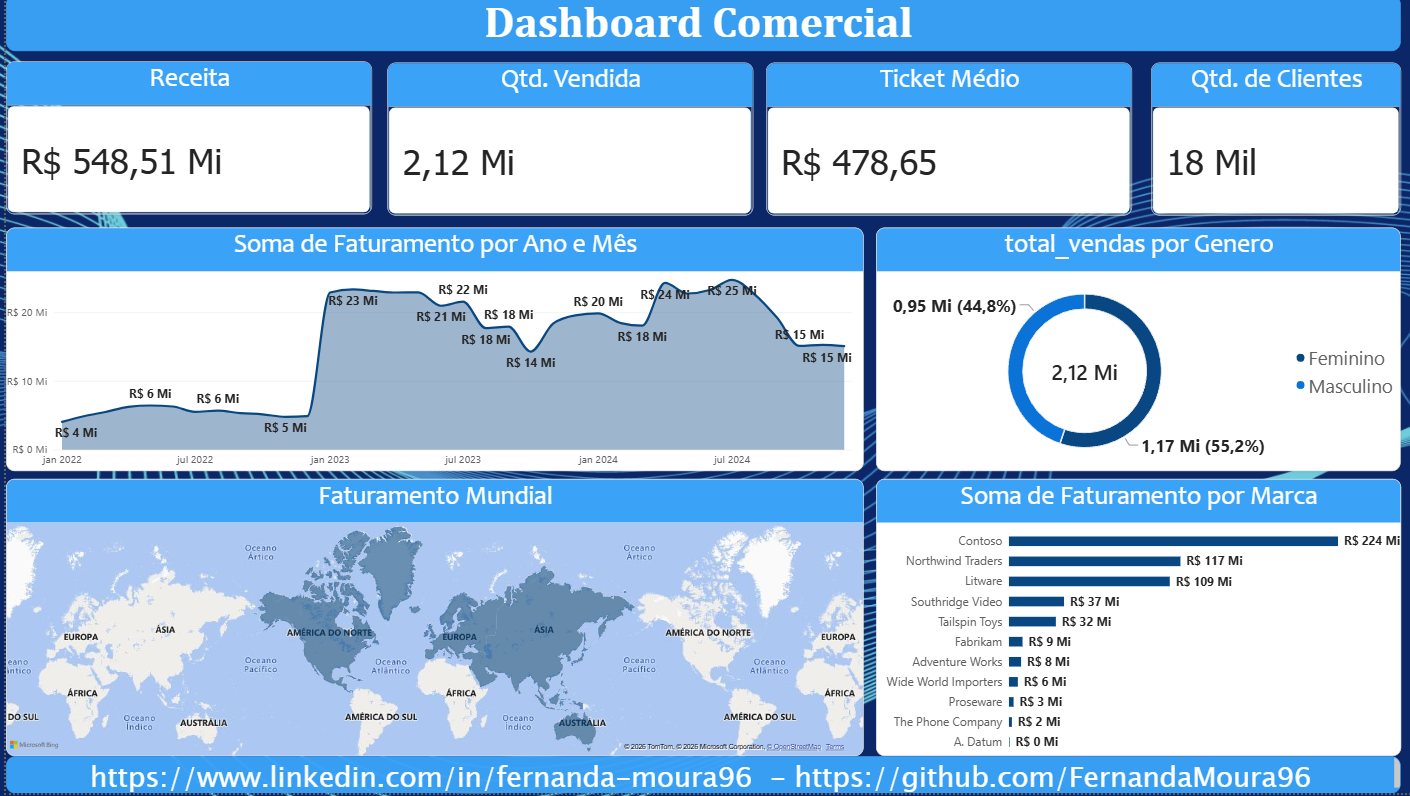

The page's visual inventory and layout, read from the dashboard file:
{"tool":"powerbi","page":{"name":"Página 1","canvas":[1920,1080],"ordinal":0},"visuals":[{"type":"cardVisual","title":"Qtd. Vendida ","fields":{"Data":["Sum(Base Vendas.Qtd. Vendida)"]},"box":[516.3,90.7,495.4,207.6],"z":0},{"type":"cardVisual","title":"Receita","fields":{"Data":["Sum(Base Vendas.Faturamento )"]},"box":[0,93,495.4,207.6],"z":1000},{"type":"cardVisual","title":"Ticket Médio","fields":{"Data":["Base Vendas.ticket médio","Base Vendas.ticket médio"]},"box":[1027.3,90.7,495.4,207.6],"z":2000},{"type":"textbox","box":[0,0,1886.8,76.1],"z":3000},{"type":"cardVisual","title":"Qtd.  de Clientes","fields":{"Data":["Base Vendas.qtd. Cliente"]},"box":[1548.8,90.7,338.4,207.6],"z":4000},{"type":"areaChart","fields":{"Category":["Base Vendas.Data Venda.Variation.Hierarquia de datas.Ano","Base Vendas.Data Venda.Variation.Hierarquia de datas.Mês"],"Y":["Sum(Base Vendas.Faturamento )"]},"box":[0,314,1159.9,329.7],"z":5000},{"type":"donutChart","title":"Vendas por Gênero","fields":{"Category":["Clientes.Genero"],"Y":["Base Vendas.total_vendas"]},"box":[1177.3,314,709.9,329.7],"z":6000},{"type":"filledMap","title":"Faturamento Mundial","fields":{"Category":["Loja.Continente"]},"box":[0,654.3,1159.8,375.3],"z":7000},{"type":"barChart","fields":{"Category":["Produto.Marca"],"Y":["Sum(Base Vendas.Faturamento )"]},"box":[1176.7,654.3,710.1,375.3],"z":8000},{"type":"textbox","box":[0,1029.6,1886.8,50.7],"z":9000}]}

Visuals, with their boxes in screenshot pixels (x1, y1, x2, y2), scaled from the page's 1920x1080 canvas onto the 1410x796 screenshot:
"Qtd. Vendida " cardVisual: crop(379, 67, 743, 220)
"Receita" cardVisual: crop(0, 69, 364, 222)
"Ticket Médio" cardVisual: crop(754, 67, 1118, 220)
textbox: crop(0, 0, 1386, 56)
"Qtd.  de Clientes" cardVisual: crop(1137, 67, 1386, 220)
areaChart - Base Vendas.Data Venda.Variation.Hierarquia de datas.Ano x Base Vendas.Data Venda.Variation.Hierarquia de datas.Mês: crop(0, 231, 852, 474)
"Vendas por Gênero" donutChart: crop(865, 231, 1386, 474)
"Faturamento Mundial" filledMap: crop(0, 482, 852, 759)
barChart - Produto.Marca x Sum(Base Vendas.Faturamento ): crop(864, 482, 1386, 759)
textbox: crop(0, 759, 1386, 795)
